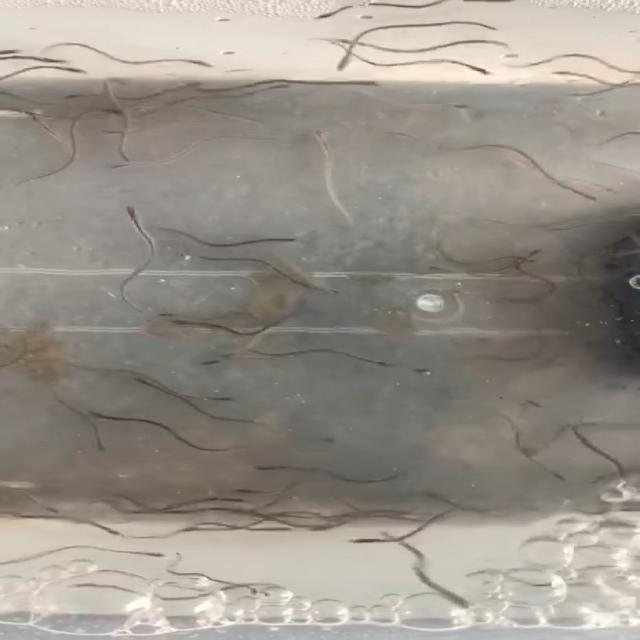active_glass_eel: (173, 51, 221, 75), (292, 126, 353, 143), (288, 281, 351, 297), (324, 53, 368, 72), (544, 470, 587, 488), (352, 530, 388, 551), (122, 206, 155, 228), (363, 362, 408, 378), (466, 59, 502, 78), (215, 495, 262, 508), (129, 546, 169, 561), (273, 236, 310, 252), (154, 310, 196, 324), (602, 182, 629, 203), (130, 372, 163, 389), (96, 75, 124, 94), (223, 483, 264, 495), (527, 243, 562, 257), (212, 391, 249, 404), (374, 128, 406, 142), (488, 30, 505, 56), (62, 87, 86, 105), (582, 191, 602, 212), (446, 598, 479, 610), (442, 99, 468, 114), (59, 65, 80, 83), (256, 461, 278, 478), (105, 160, 136, 172), (38, 48, 61, 64), (90, 524, 119, 536), (208, 360, 227, 378), (87, 406, 109, 421), (358, 78, 383, 91), (310, 12, 332, 26), (556, 68, 570, 88)
